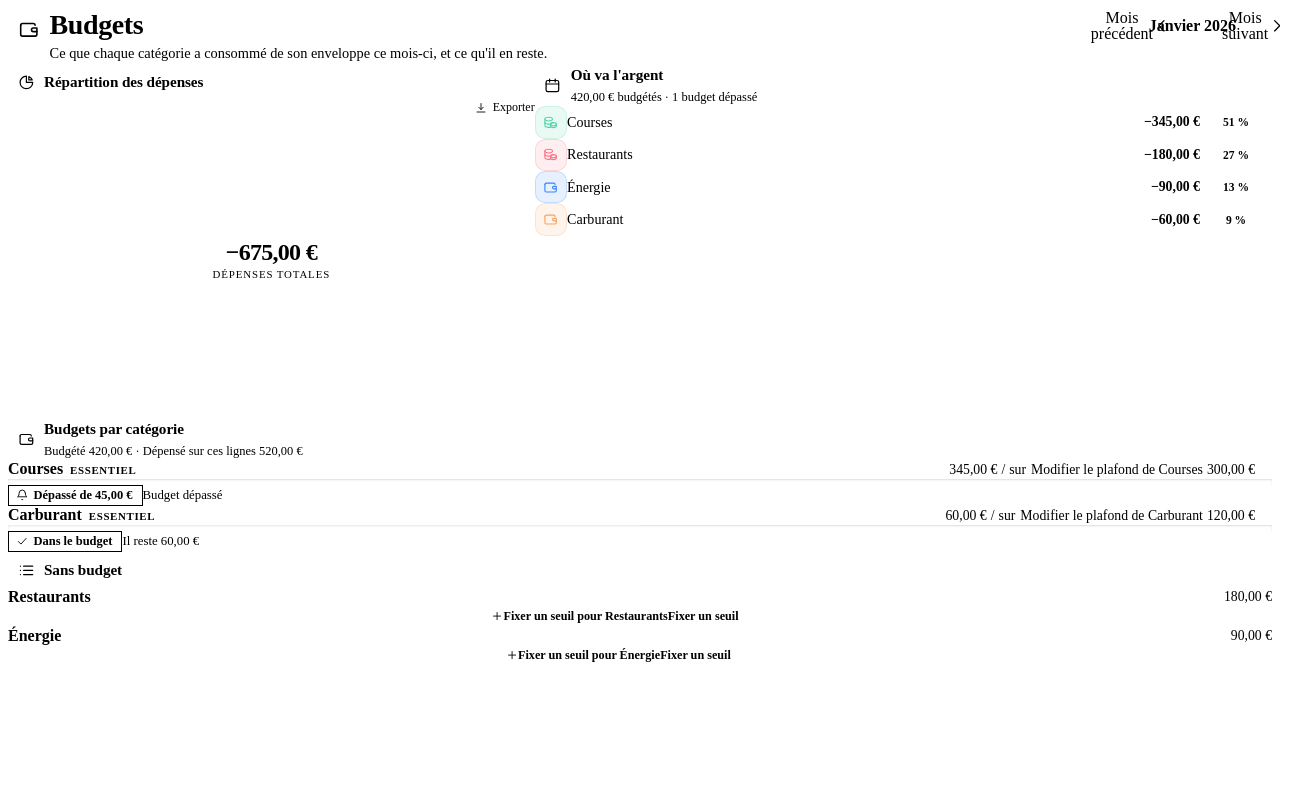
Test: BudgetsPage › states a rejected save at the field too, verbatim from the backend
Click the button that starts with "Fixer un seuil pour Restaurants" at (616, 617), box x1=8 y1=606 x2=1224 y2=627
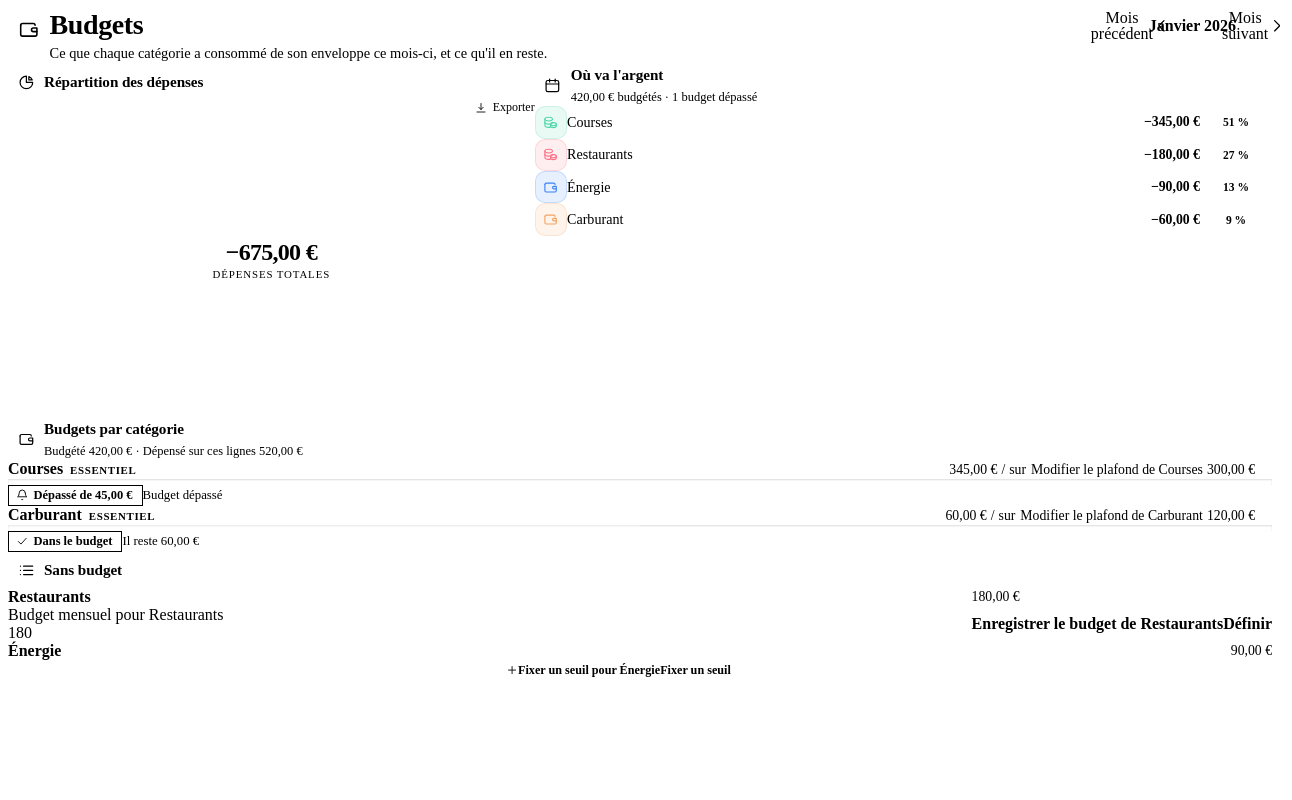
Type "150" into the field labelled "Budget mensuel pour Restaurants" at (490, 633), box x1=8 y1=624 x2=972 y2=642
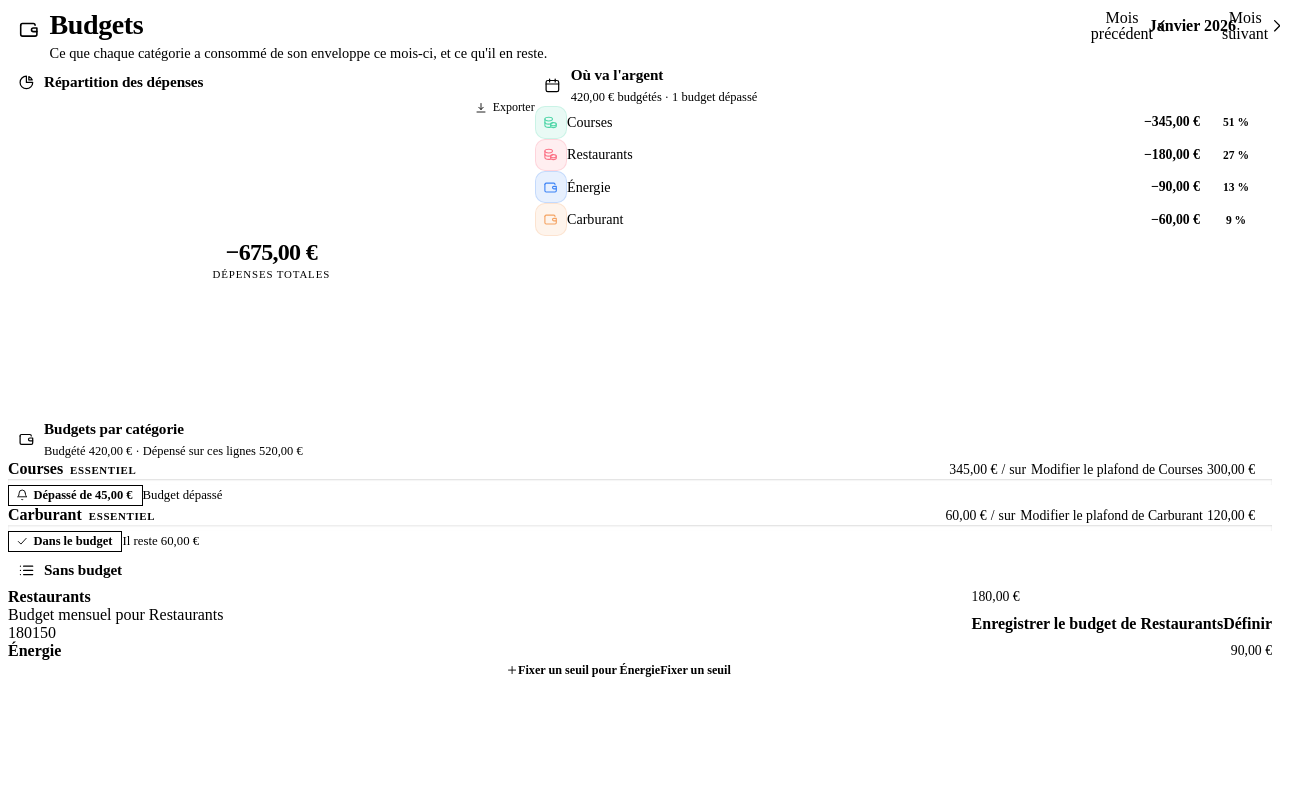
Click the button "Enregistrer le budget de Restaurants" at (1122, 624), box x1=972 y1=615 x2=1272 y2=633
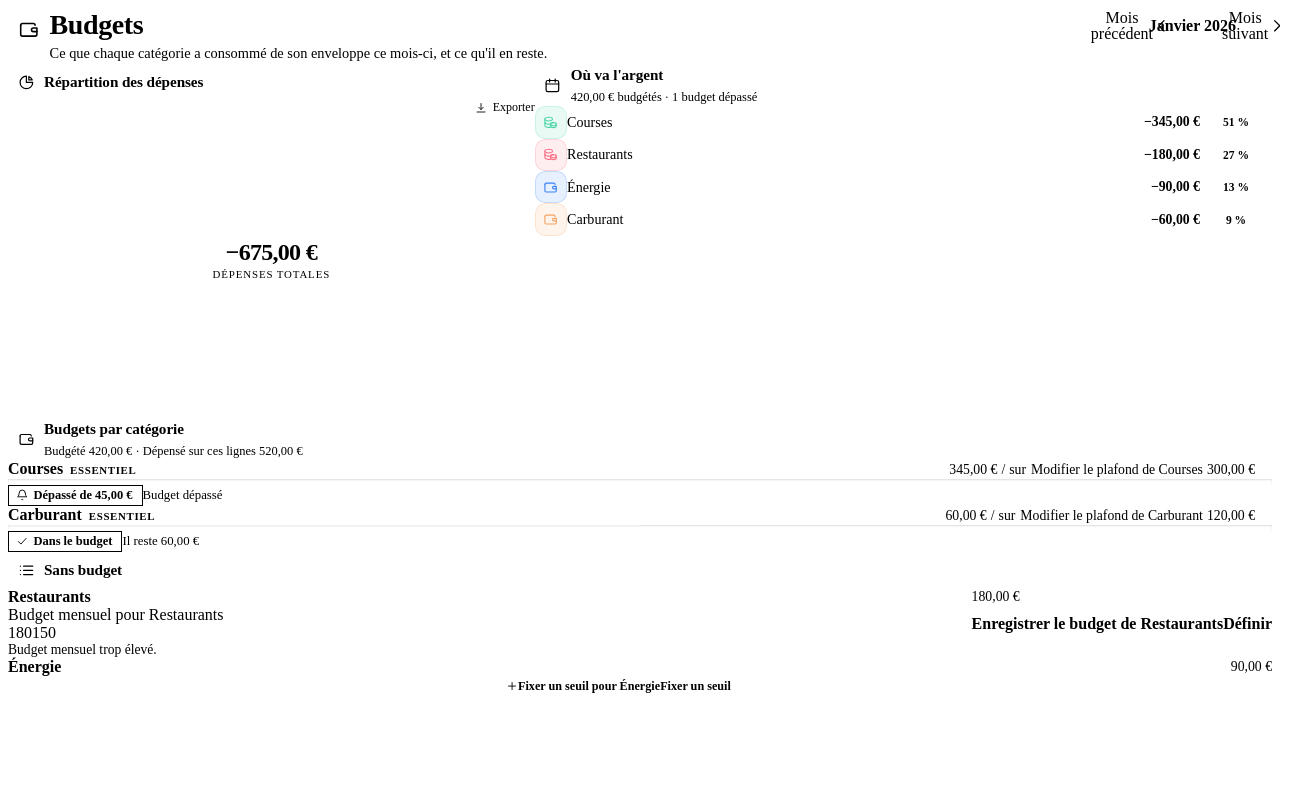
Check: the message reads "Budget mensuel trop élevé.", box x1=8 y1=642 x2=157 y2=657
